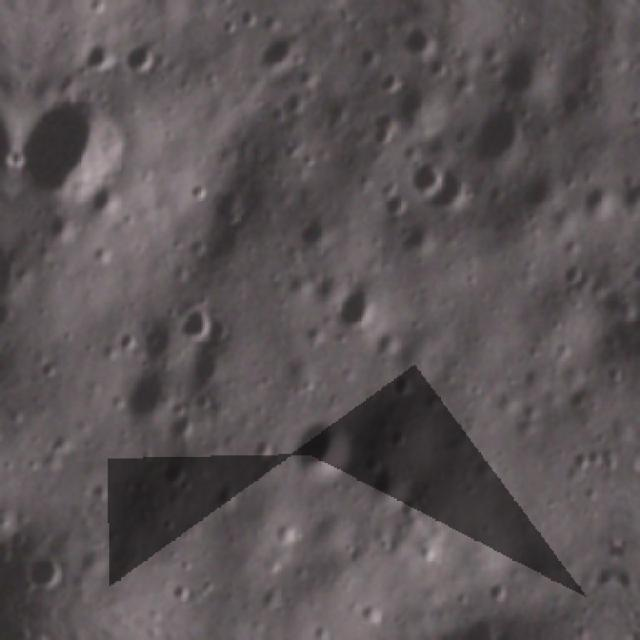crater: (10, 82, 135, 218), (284, 407, 361, 484), (483, 36, 551, 106), (119, 355, 184, 428), (467, 99, 533, 168), (327, 273, 391, 339), (510, 156, 568, 221), (248, 21, 314, 73), (23, 545, 79, 597), (399, 153, 450, 204), (366, 459, 416, 510), (434, 163, 481, 215), (82, 176, 135, 221), (176, 297, 222, 348), (188, 345, 234, 393), (396, 21, 441, 65), (570, 180, 616, 223), (122, 33, 163, 81), (80, 33, 122, 78), (362, 62, 404, 102), (388, 367, 426, 410), (319, 88, 358, 128), (362, 108, 403, 146), (277, 86, 317, 120), (612, 170, 640, 218), (351, 38, 383, 70), (182, 176, 210, 204), (623, 256, 640, 286), (101, 0, 148, 2)
